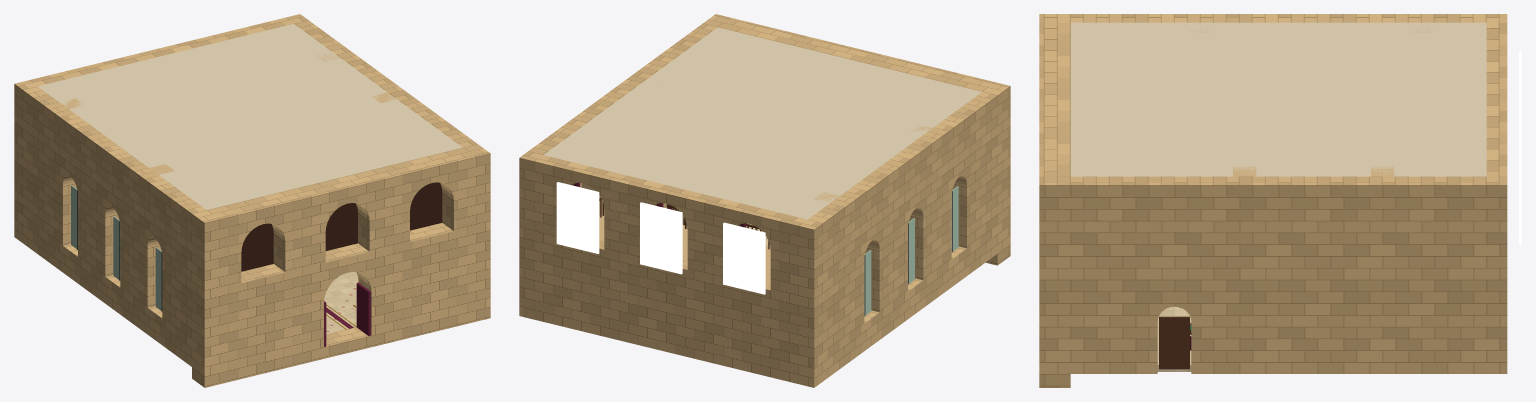
The model's file is nervix_openpoker_salon.glb.
3 views of the same model, side by side, from view 1: azimuth 30°, elevation 25°; view 2: azimuth 150°, elevation 25°; view 3: azimuth 270°, elevation 25° (orthographic). The views are drawn at different scales.
Parts seen in each view (by area): view 1: nervix_openpoker_salon__oc_ashlar_honey, salon_ceiling, nervix_openpoker_salon__oc_walnut_dark, salon_floor, nervix_openpoker_salon__oc_glass_leaded, salon_door_leaf_R, nervix_openpoker_salon__oc_limestone_honey; view 2: nervix_openpoker_salon__oc_ashlar_honey, salon_ceiling, salon_arch_view.002, salon_arch_view, salon_arch_view.001, nervix_openpoker_salon__oc_glass_leaded, nervix_openpoker_salon__oc_limestone_honey; view 3: nervix_openpoker_salon__oc_ashlar_honey, salon_ceiling, salon_dangg_door, nervix_openpoker_salon__oc_limestone_honey, salon_floor.
Part boxes in pixels (x1,y1,x2,y2): nervix_openpoker_salon__oc_ashlar_honey: (14,14,490,387); salon_ceiling: (38,24,462,209); nervix_openpoker_salon__oc_walnut_dark: (241,182,442,271); salon_floor: (324,272,358,334); nervix_openpoker_salon__oc_glass_leaded: (71,185,161,310); salon_door_leaf_R: (356,282,370,335); nervix_openpoker_salon__oc_limestone_honey: (63,52,396,174); nervix_openpoker_salon__oc_ashlar_honey: (519,14,1010,387); salon_ceiling: (543,27,981,219); salon_arch_view.002: (556,182,599,253); salon_arch_view: (723,222,765,294); salon_arch_view.001: (640,202,682,274); nervix_openpoker_salon__oc_glass_leaded: (864,186,958,315); nervix_openpoker_salon__oc_limestone_honey: (582,80,931,281); nervix_openpoker_salon__oc_ashlar_honey: (1039,14,1507,387); salon_ceiling: (1070,22,1486,176); salon_dangg_door: (1159,316,1189,369); nervix_openpoker_salon__oc_limestone_honey: (1190,24,1433,176); salon_floor: (1157,306,1191,371).
Size of the model in its own units: 15.6 by 8.6 by 18.55.
Materials: 23 (2 with a texture image).
